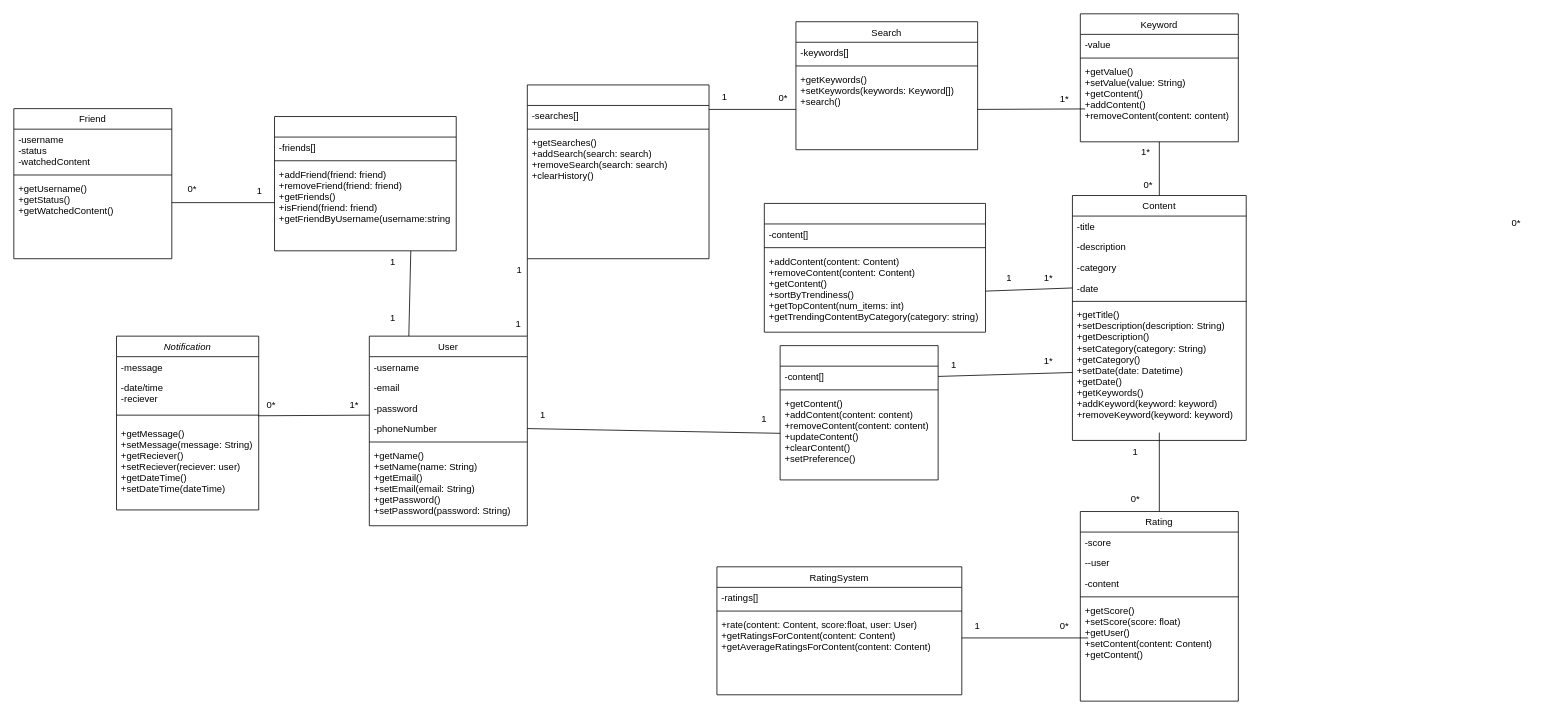
The diagram is 1554 pixels wide and 715 high, and some of its shapes have lost their labels. The shapes that lost their labels are listed below. From the top down, each one's box as (x1, y1, x2, y2) in pixels, then its label:
(274, 116, 456, 251): FriendList
(527, 84, 709, 259): SearchHistory
(764, 203, 986, 332): TrendingList
(779, 345, 938, 480): ForYou
